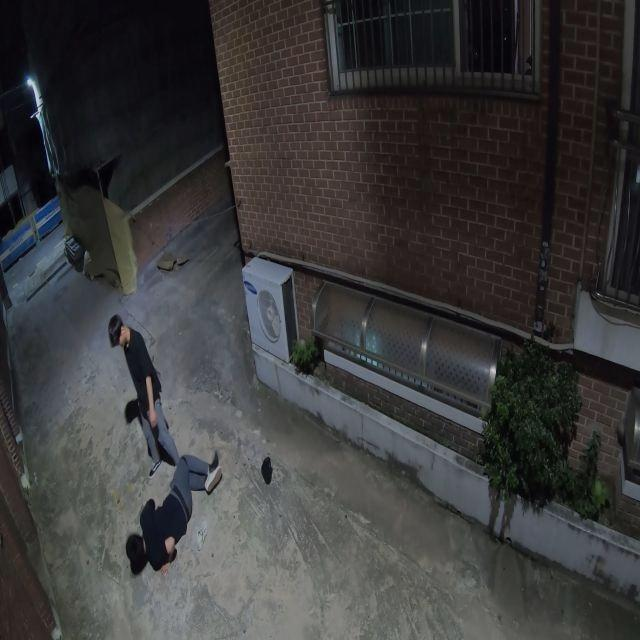fight: (108, 316, 229, 577)
